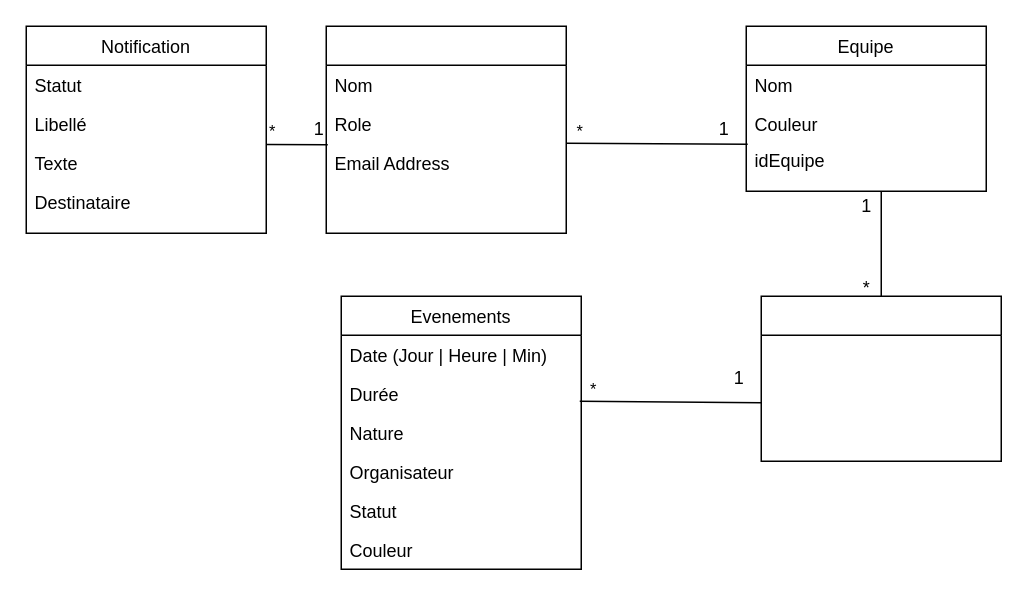
Image size: 1028x600. Some labels were removed from this diagram. Here are the shapes that lost their labels. From the top down, the box of each, then its label:
(325, 25, 566, 233): Utilisateur
(760, 295, 1001, 461): Calendrier
